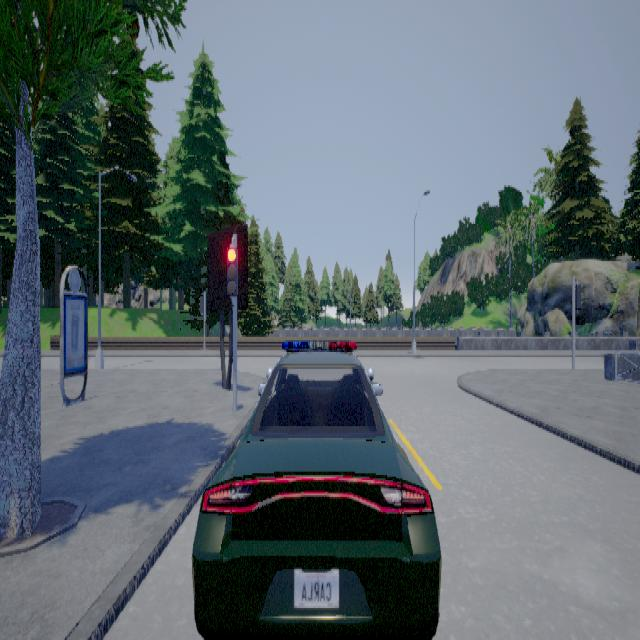red_light: (228, 236, 239, 305)
vehicle: (192, 338, 443, 638)
